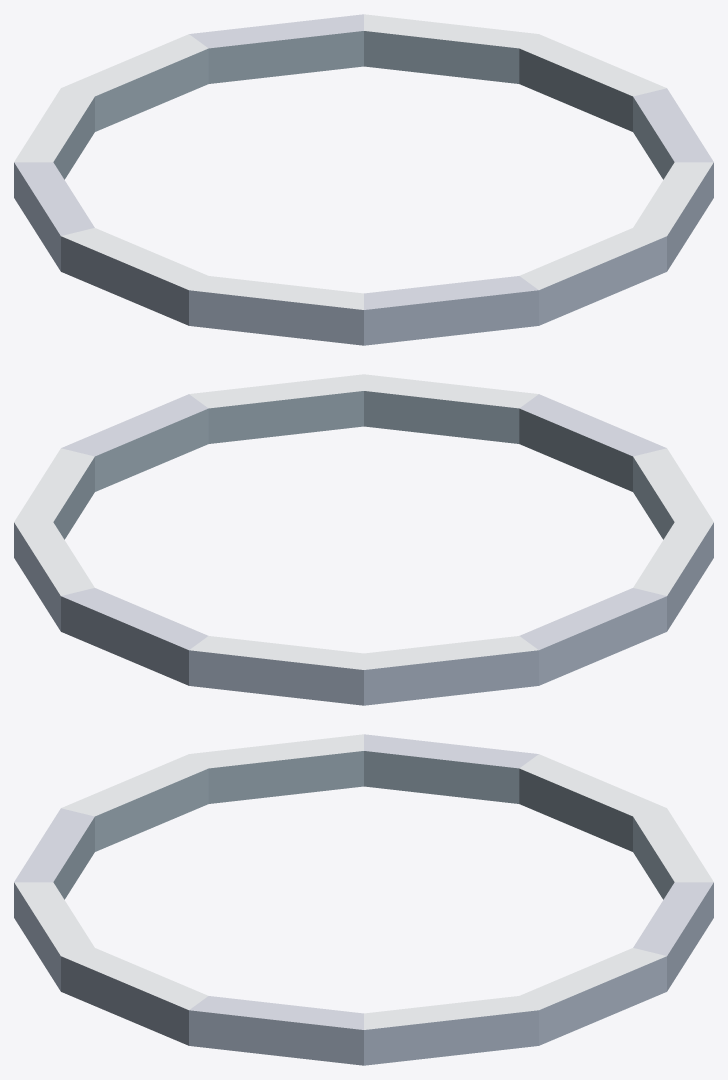
Rendered from altar_ring.obj.
The picture shows the model from 3 angles, top to bottom: view 1: azimuth 30°, elevation 25°; view 2: azimuth 150°, elevation 25°; view 3: azimuth 270°, elevation 25°; orthographic projection.
Bounding box in the file's own units: 0.89 × 0.05 × 0.89.
